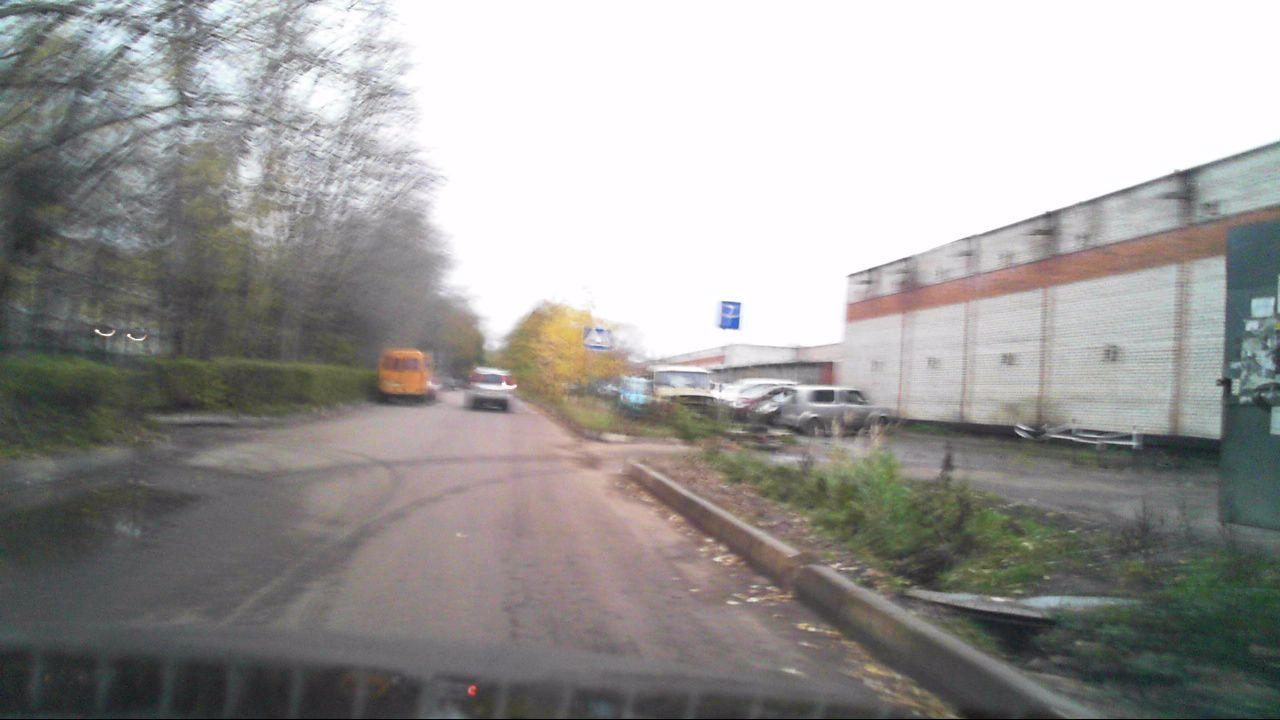5_20: (583, 327, 605, 348)
